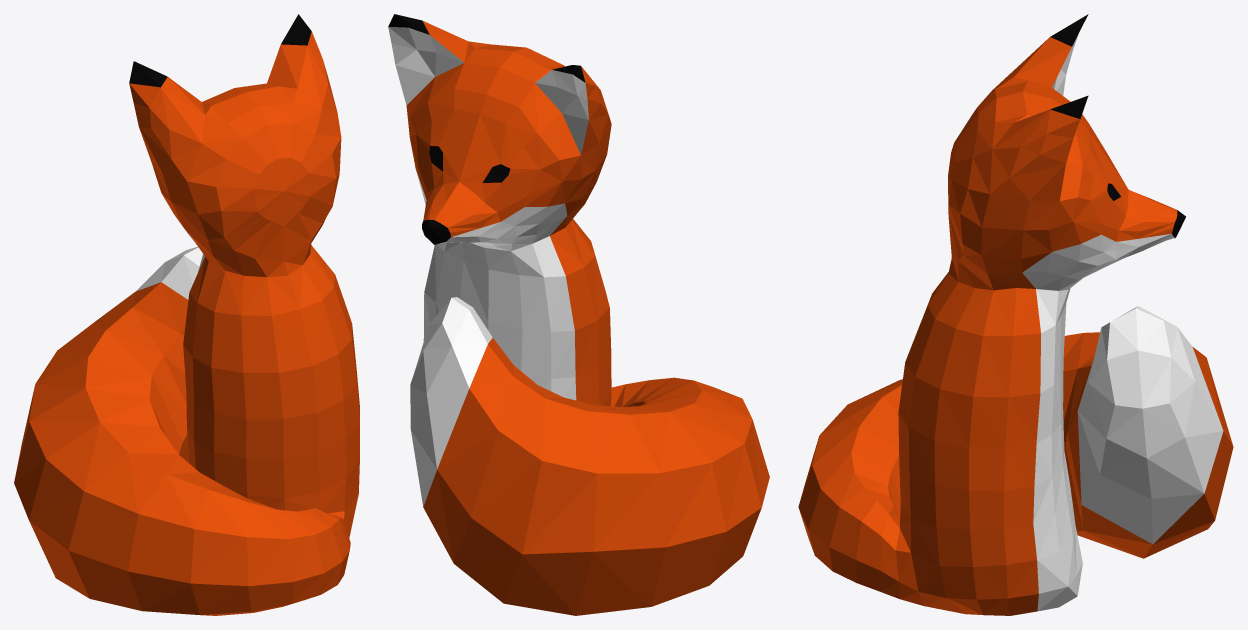
Rendered from fox.glb.
The picture shows the model from 3 angles, left to right: view 1: azimuth 30°, elevation 25°; view 2: azimuth 150°, elevation 25°; view 3: azimuth 270°, elevation 25°; orthographic projection. The views are drawn at different scales.
Parts seen in each view (by area): view 1: fox; view 2: fox; view 3: fox.
Part boxes in pixels (x1,y1,x2,y2): fox: (14,14,359,615); fox: (388,14,769,615); fox: (798,14,1233,615).
Size of the model in its own units: 0.1557 by 0.2444 by 0.178.
